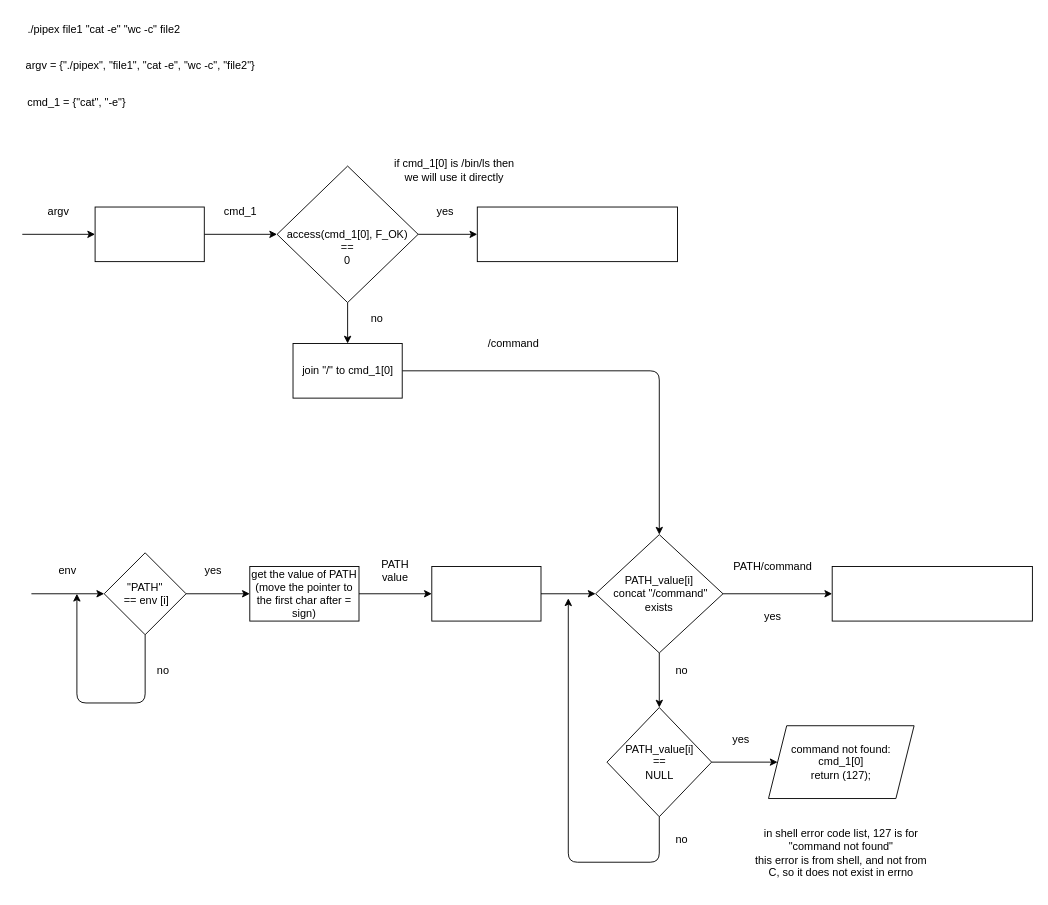
Some shapes in this 1048 by 905 pixel diagram are drawn without their labels. Each missing label, with the centre of its shape:
execve(cmd_1[0], cmd_1, NULL): the point at 576,234
execve(PATH/command, cmd_1, NULL): the point at 931,593
split argv[2] by space delimiter: the point at 149,234
split by ':': the point at 486,593
